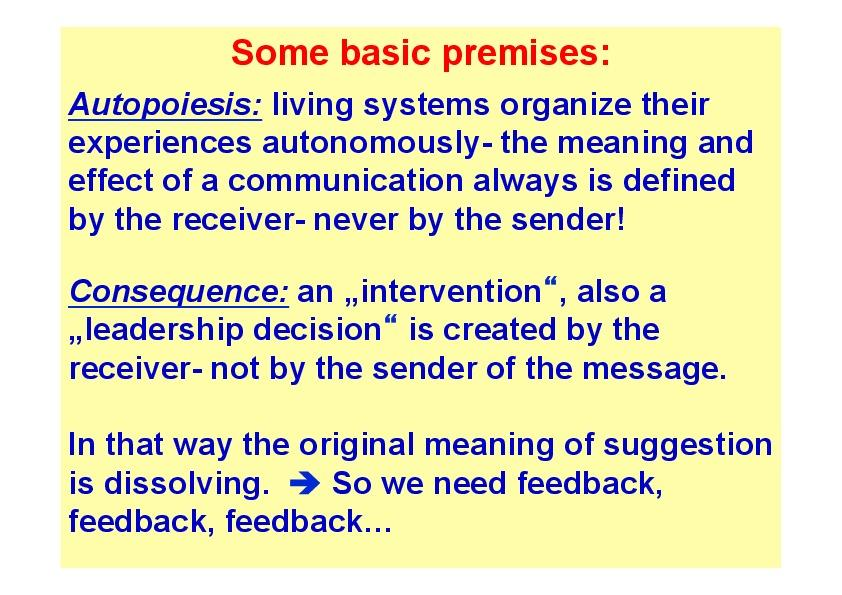paragraph: (61, 84, 809, 561)
title: (225, 32, 642, 72)
